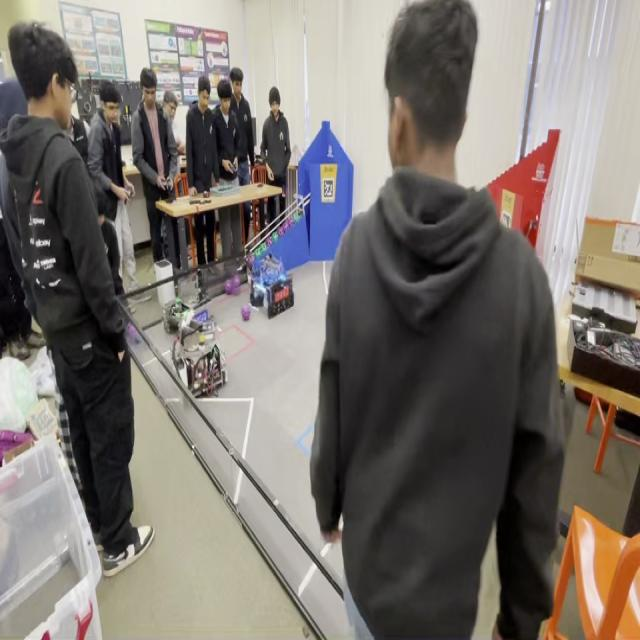artifact_purple: (242, 304, 251, 321), (233, 274, 241, 292), (225, 279, 233, 295)
